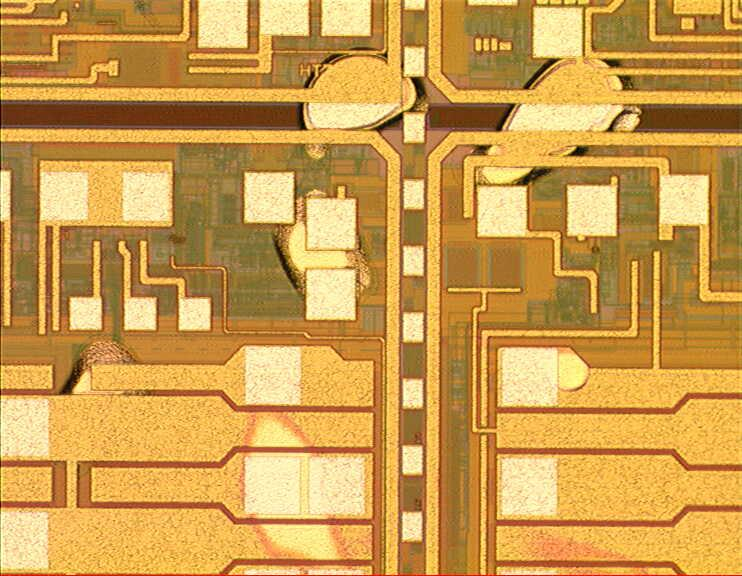COATING BAD: (56, 49, 657, 576)
